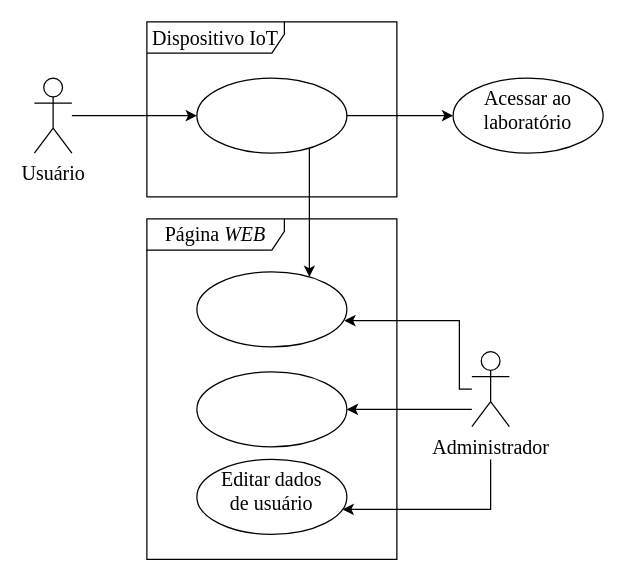
Some shapes in this 625 by 581 pixel diagram are drawn without their labels. Each missing label, with the box of its shape:
Aproximar a tag do leitor: (196, 77, 347, 153)
Cadastrar usuário: (196, 271, 347, 347)
Ver lista de acessos: (196, 371, 347, 447)
